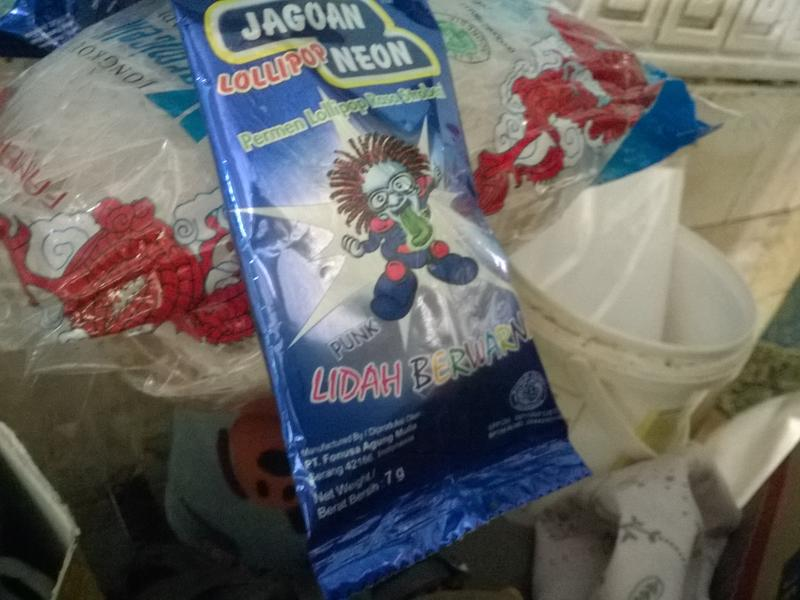jagoan neon: (178, 1, 592, 598)
